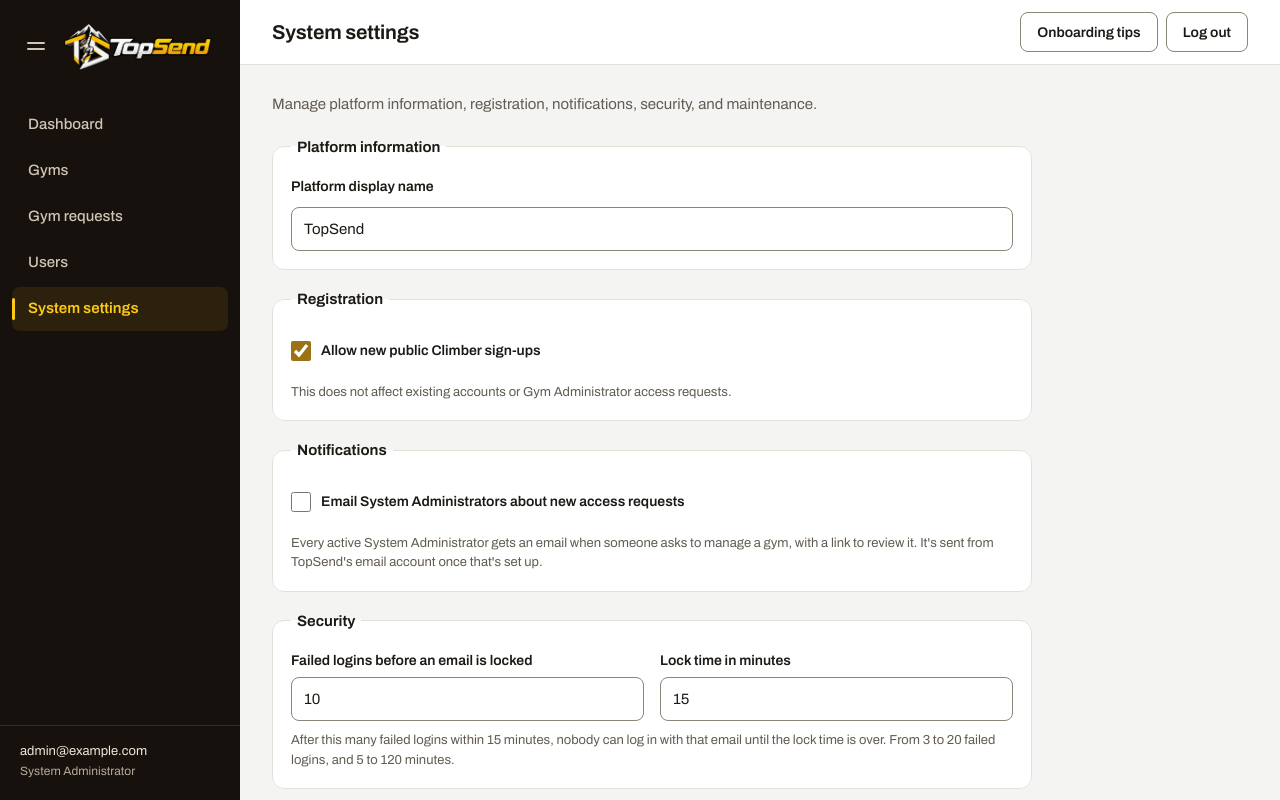
Test case: US-010 system settings › discards edits and disables saving when no settings changed
Replace the text in the field labelled "Platform display name" with "Other". click: (652, 229)
box: [291,207,1013,251]
(page scrolled)
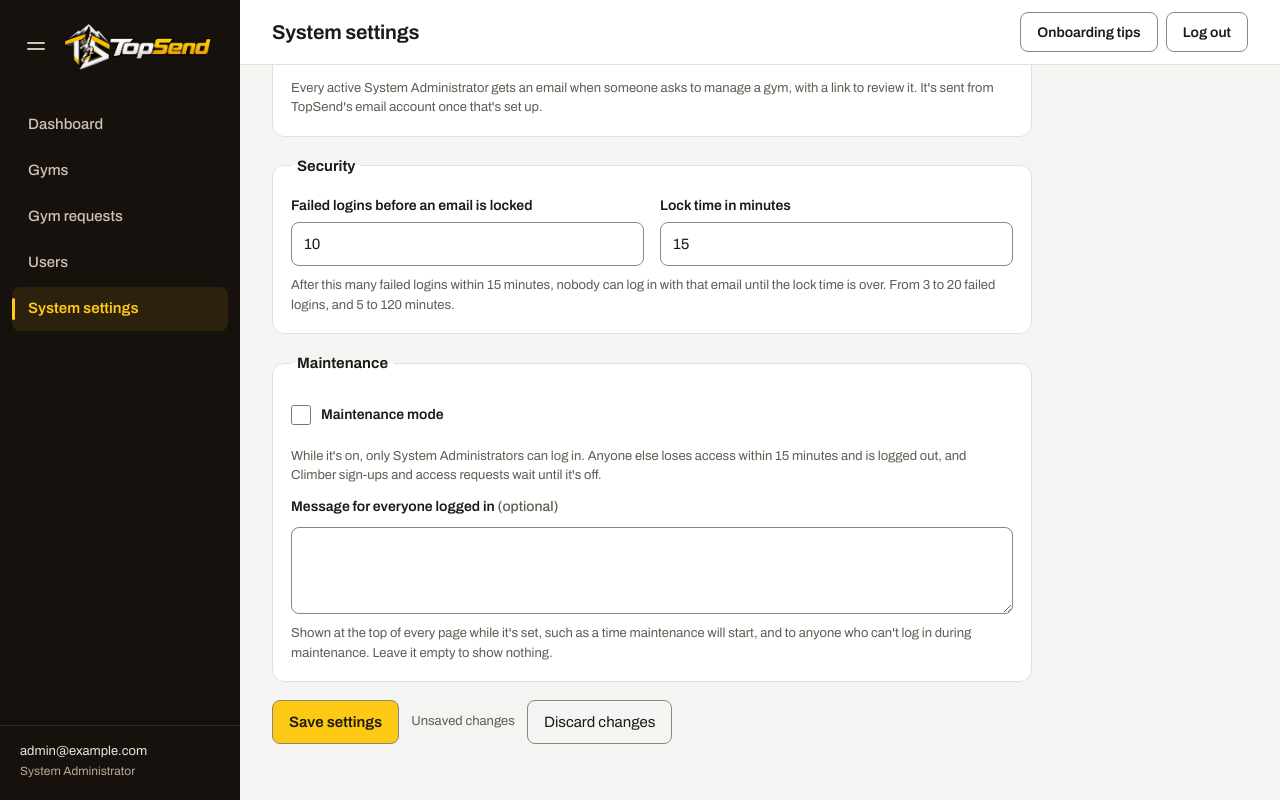
Click the button "Discard changes". click: (600, 722)
box: [527,700,672,744]
(page scrolled)
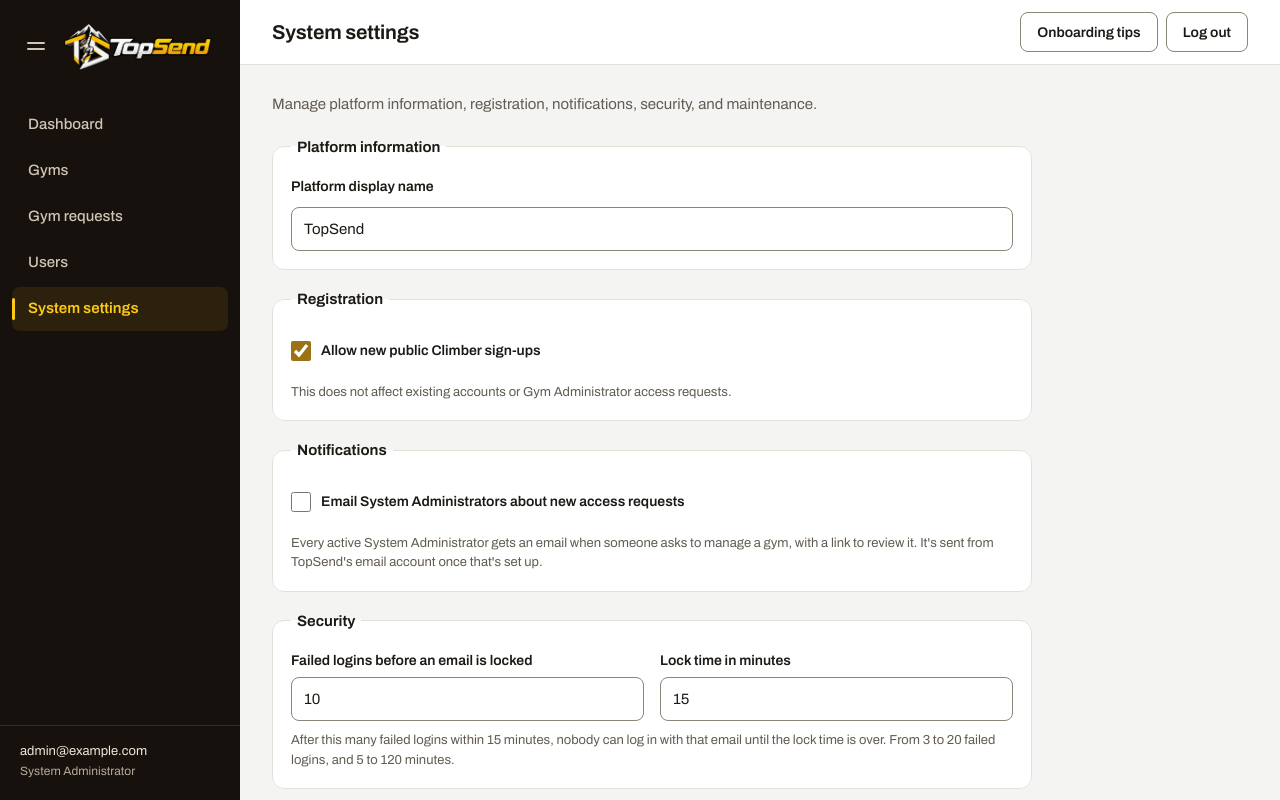
Result: the field labelled "Platform display name" holds "TopSend" at [291,207,1013,251]
